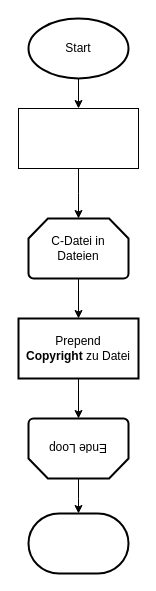
Some shapes in this 156 by 591 pixel diagram are drawn without their labels. Each missing label, with the box of its shape:
alle *.c Dateien in Ordner (Rekursiv): (18, 108, 138, 168)
Ende: (27, 512, 129, 574)
